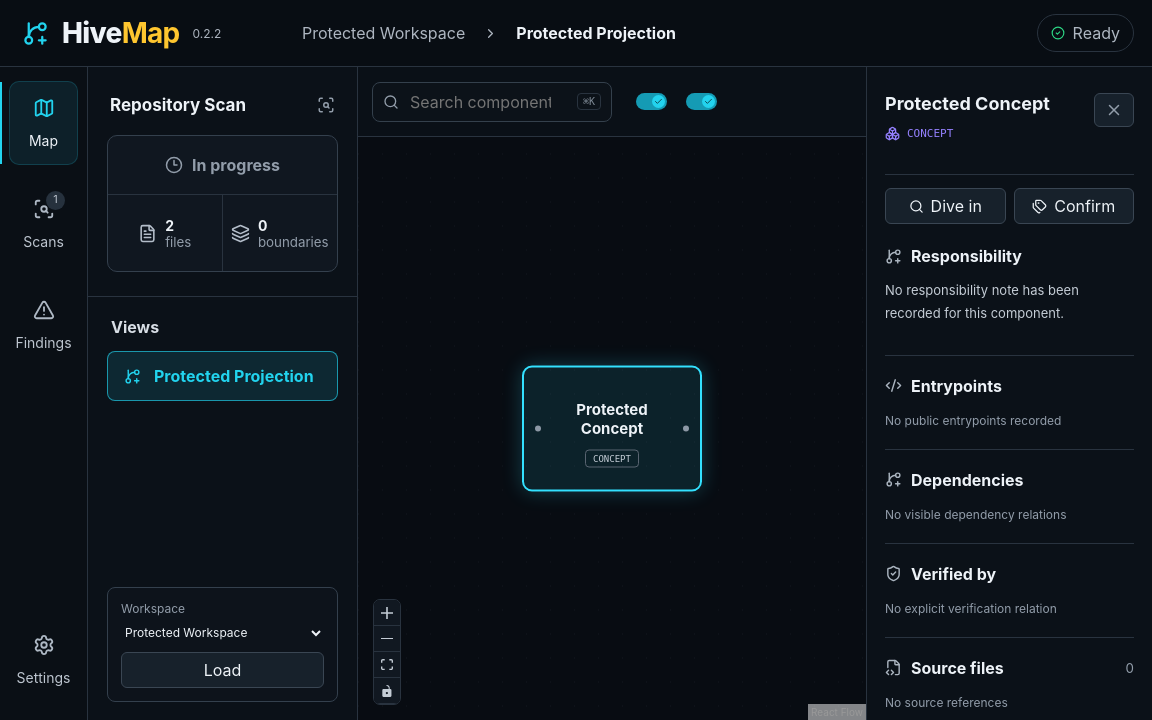
Test: App token lifecycle › confirms and deletes any scan while presenting coverage as scope
This screenshot has width=1152, height=720.
Expected: the text "Protected Workspace" is shown, [302,23,465,43]
Select "Pending Workspace" in the dropdown labelled "Workspace" at (222,633), box [121,623,324,643]
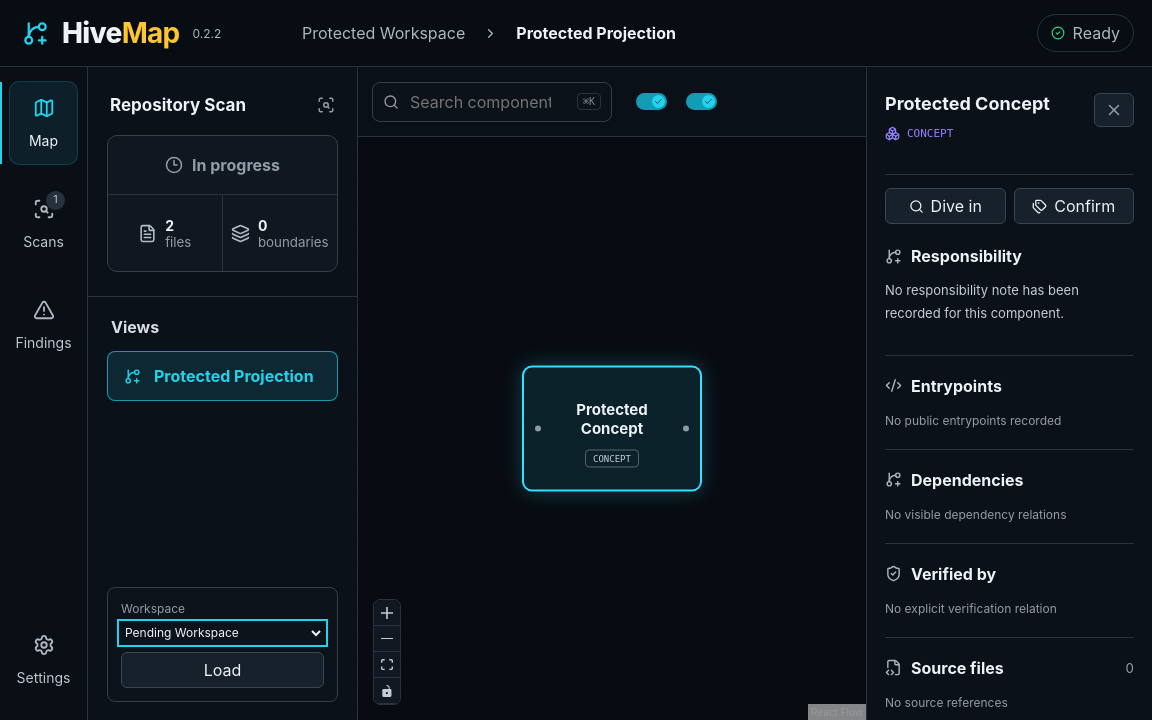
Click the button "Scans 1" at (44,224), box [9,182,78,266]
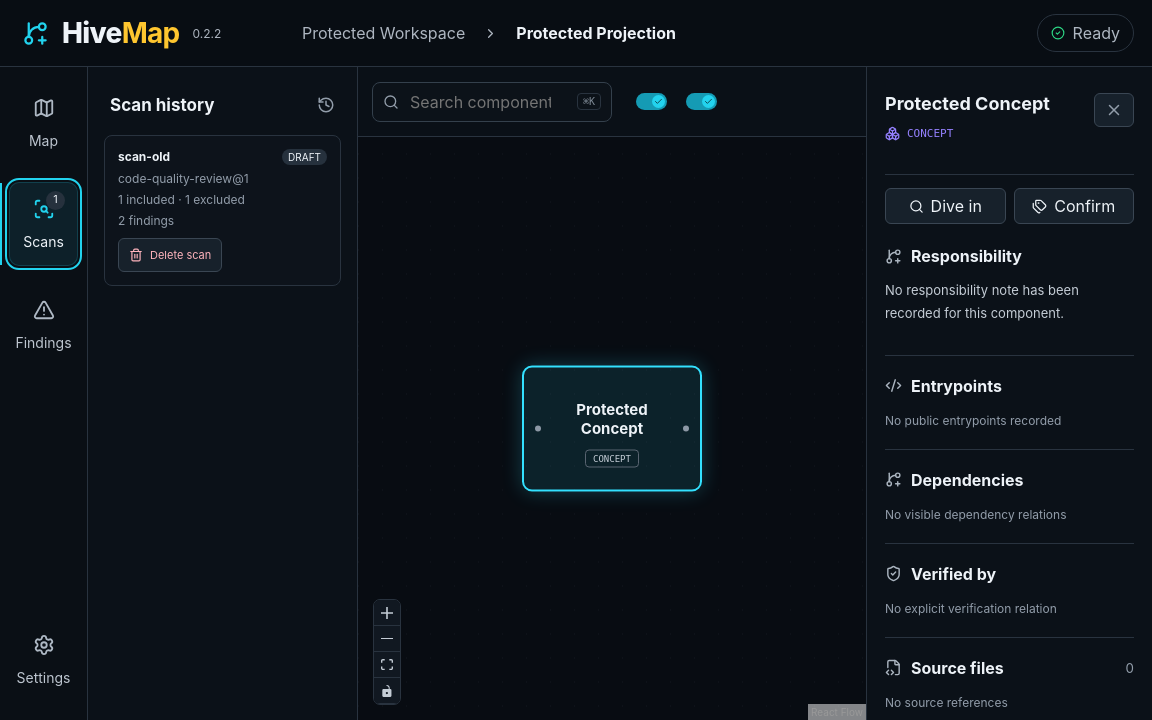
Now the text "draft" is shown, box [282,149,327,165]
Now the text "1 included · 1 excluded" is shown, box [118,192,245,207]
Click the button "Delete scan" at (170,255), box [118,238,222,272]
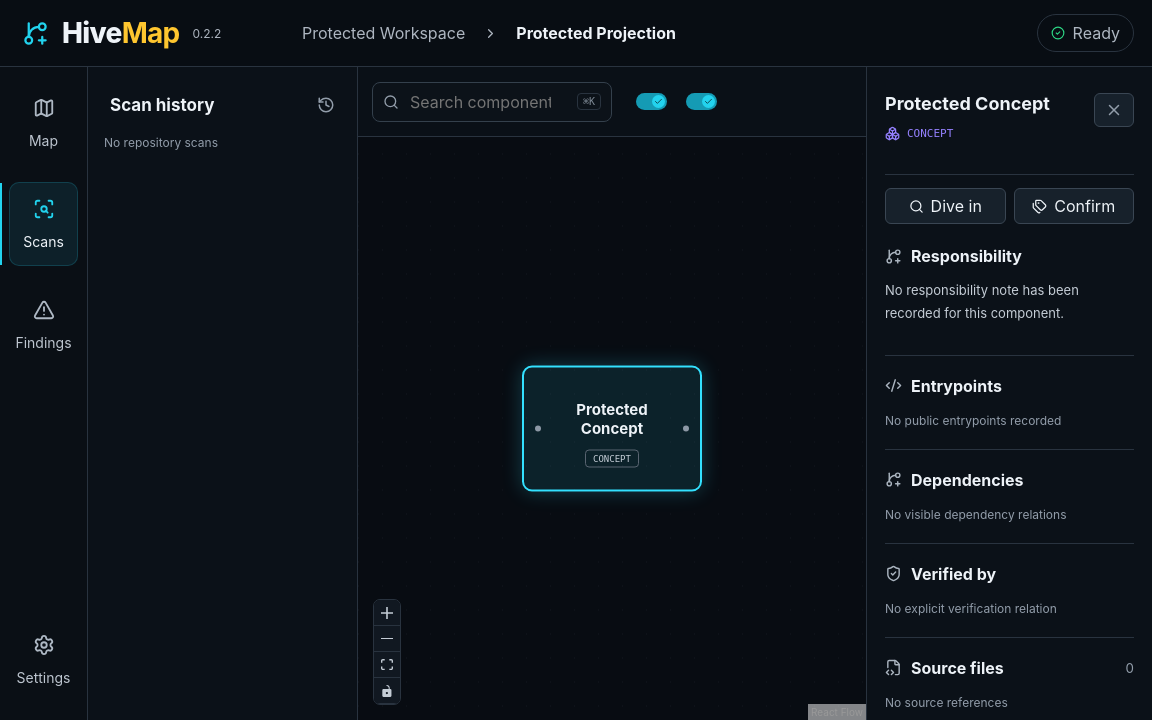
Now the text "scan-old" is gone
Click the button "Map" at (44,123), box [9,81,78,165]
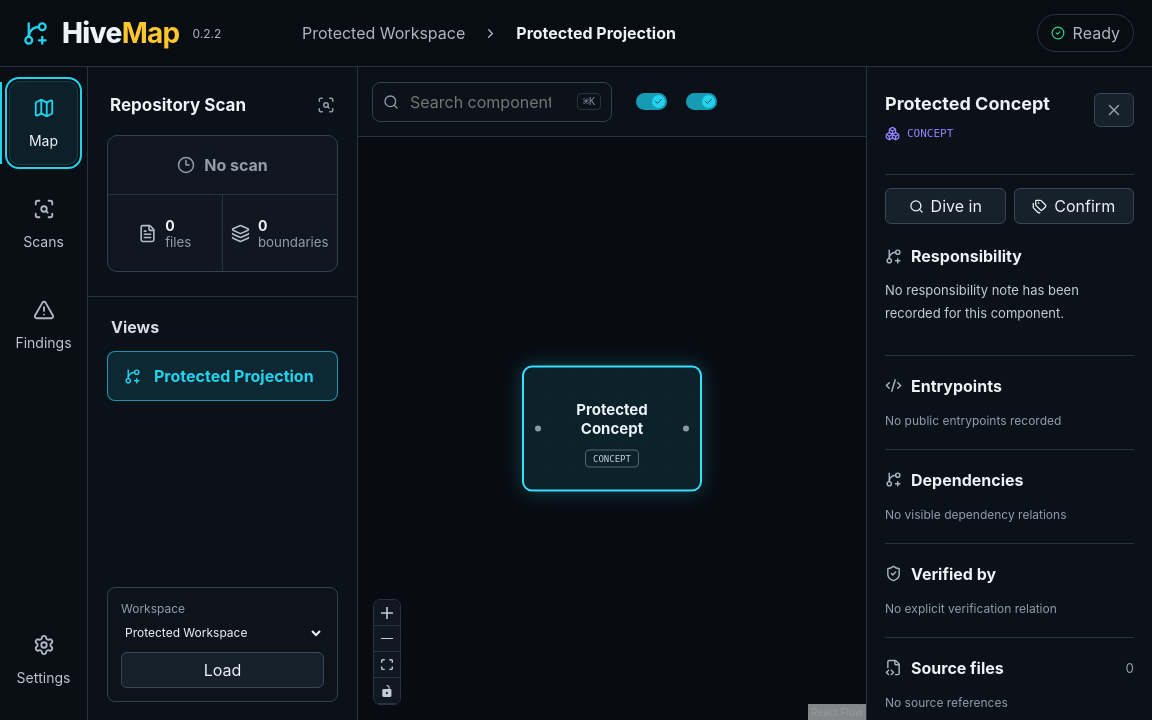
Now the dropdown labelled "Workspace" shows "Protected Workspace", box [121,623,324,643]
